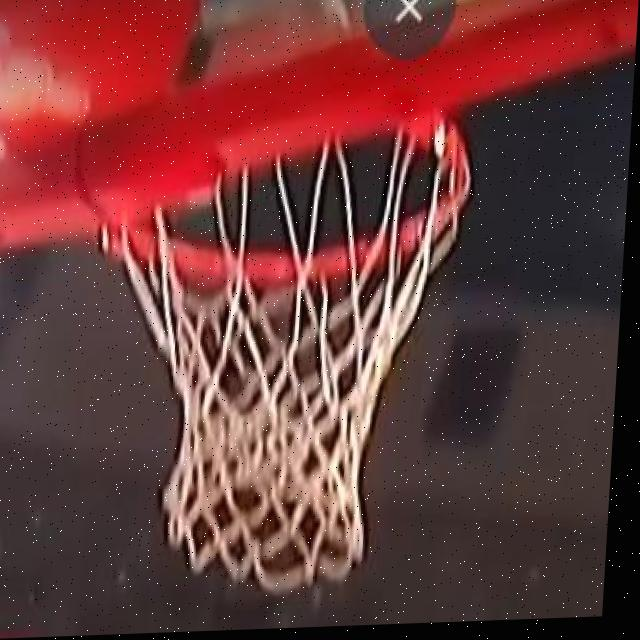hoop: (189, 83, 467, 562)
